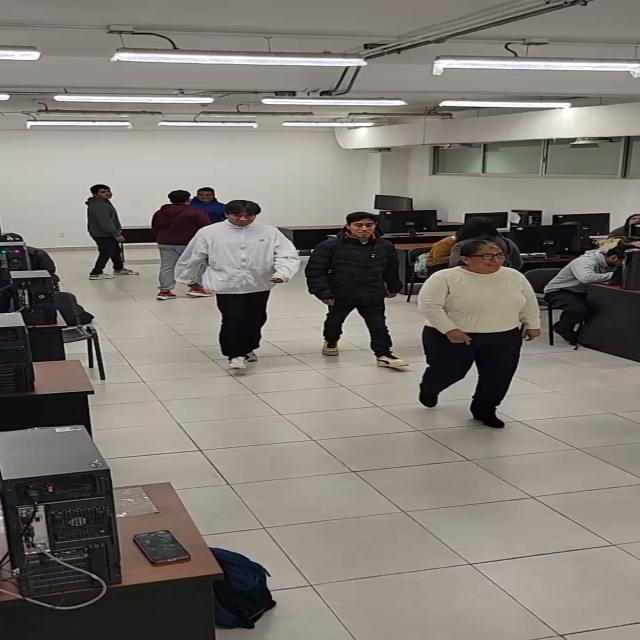Persona: (419, 238, 541, 430), (175, 198, 302, 370), (305, 212, 411, 369), (150, 189, 214, 301), (83, 184, 142, 280), (187, 184, 230, 227)
